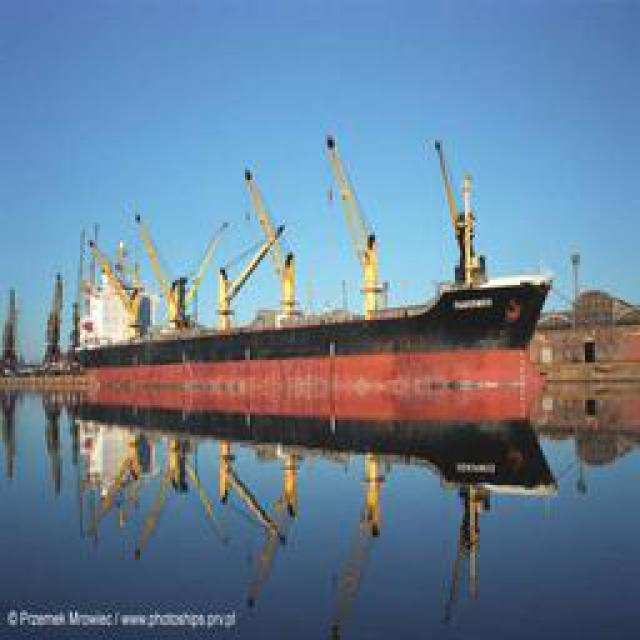Ship: (30, 123, 573, 561)
